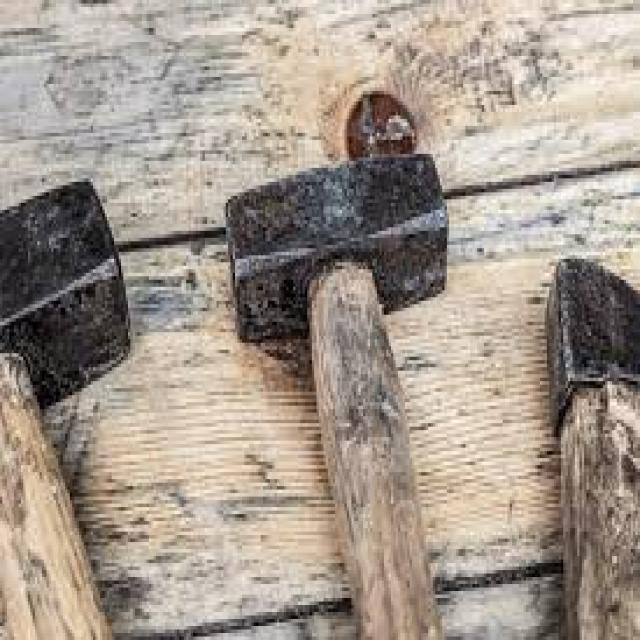hammer: (209, 136, 461, 640)
